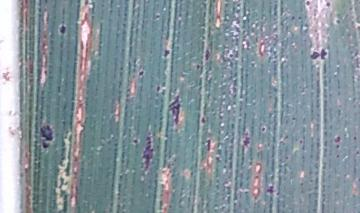tarspot: (139, 128, 157, 178), (167, 88, 184, 133), (37, 122, 57, 152), (264, 181, 282, 200), (241, 128, 253, 156), (162, 34, 173, 61), (26, 60, 35, 88), (55, 21, 69, 38), (203, 44, 213, 65), (320, 46, 331, 63), (204, 135, 213, 155), (309, 47, 321, 62), (198, 112, 208, 128), (332, 133, 343, 145), (154, 82, 164, 95), (130, 136, 141, 147), (180, 68, 188, 83), (259, 124, 269, 136), (333, 16, 343, 28), (137, 66, 146, 79), (282, 153, 293, 163), (193, 62, 203, 72), (323, 1, 334, 10), (297, 136, 304, 149), (214, 153, 223, 163), (154, 11, 162, 22), (290, 115, 299, 124), (290, 13, 297, 24), (43, 66, 49, 78), (297, 12, 303, 23), (355, 21, 360, 34), (228, 51, 235, 60), (304, 1, 313, 8), (334, 153, 343, 160), (333, 144, 343, 150), (352, 134, 358, 143), (355, 149, 360, 156)
